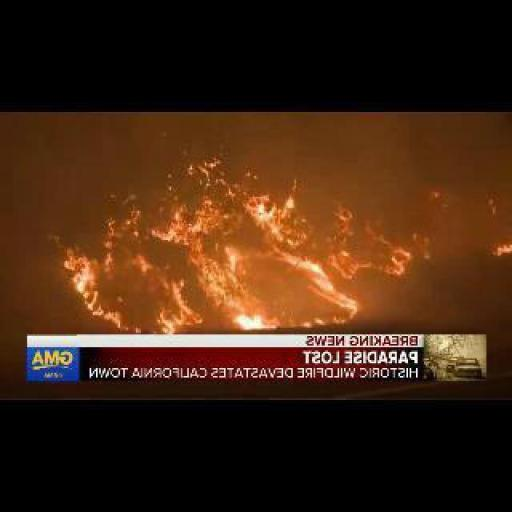smoke: (64, 190, 400, 328), (162, 154, 258, 190), (490, 242, 510, 256)
